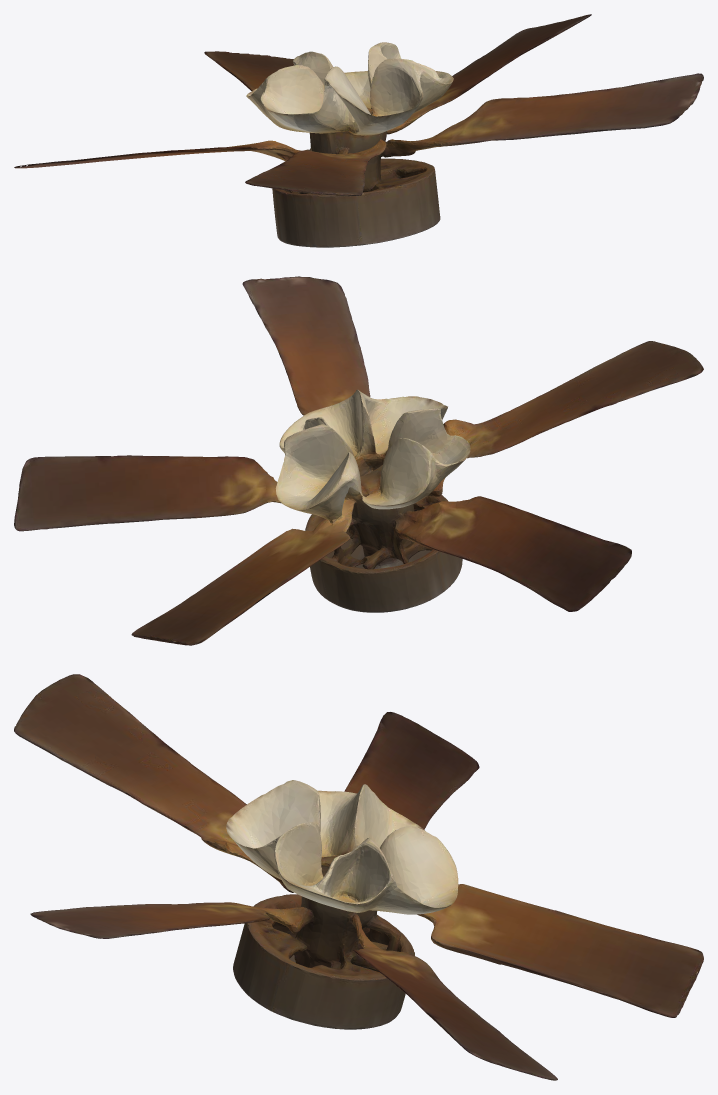
The model's file is brown_ceiling_fan_000.glb.
The picture shows the model from 3 angles, top to bottom: view 1: azimuth 30°, elevation 25°; view 2: azimuth 150°, elevation 25°; view 3: azimuth 270°, elevation 25°; orthographic projection. The views are drawn at different scales.
Visible parts, largest first — view 1: brown_ceiling_fan_000.obj; view 2: brown_ceiling_fan_000.obj; view 3: brown_ceiling_fan_000.obj.
Part boxes in pixels (x1,y1,x2,y2): brown_ceiling_fan_000.obj: [14, 14, 703, 247]; brown_ceiling_fan_000.obj: [14, 276, 703, 645]; brown_ceiling_fan_000.obj: [14, 674, 703, 1080].
Bounding box in the file's own units: 0.6761 × 0.2123 × 0.6174.
1 material, 1 textured.
